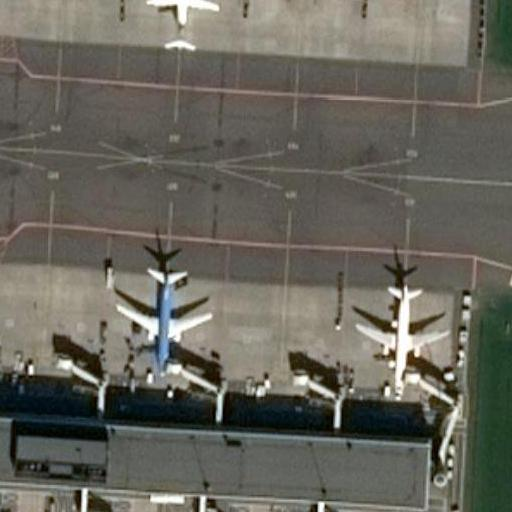Aircraft: (111, 257, 212, 372), (351, 274, 447, 393), (148, 0, 218, 55)
